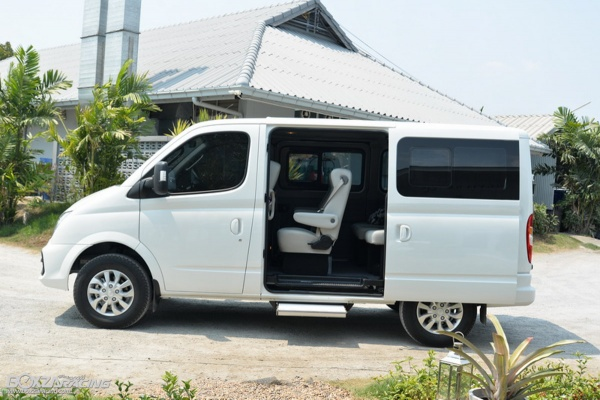van: (40, 115, 540, 347)
